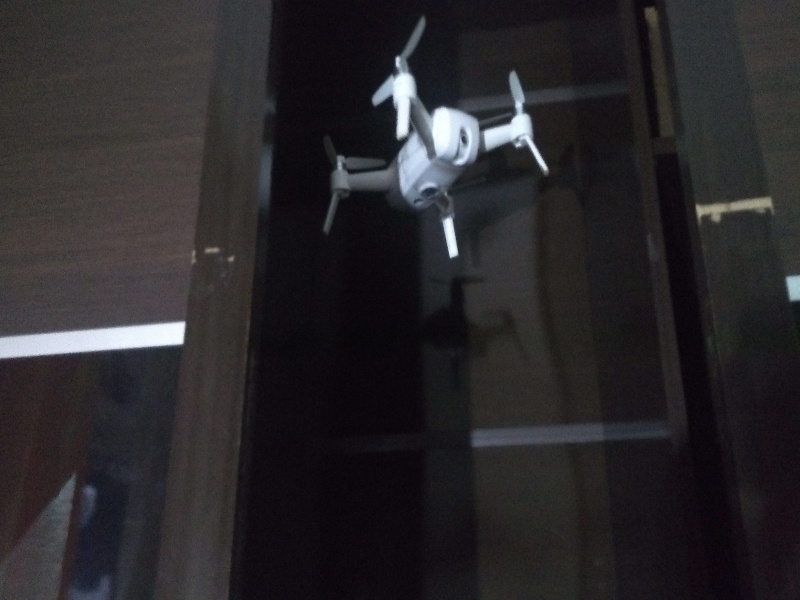drone: (310, 21, 555, 266)
